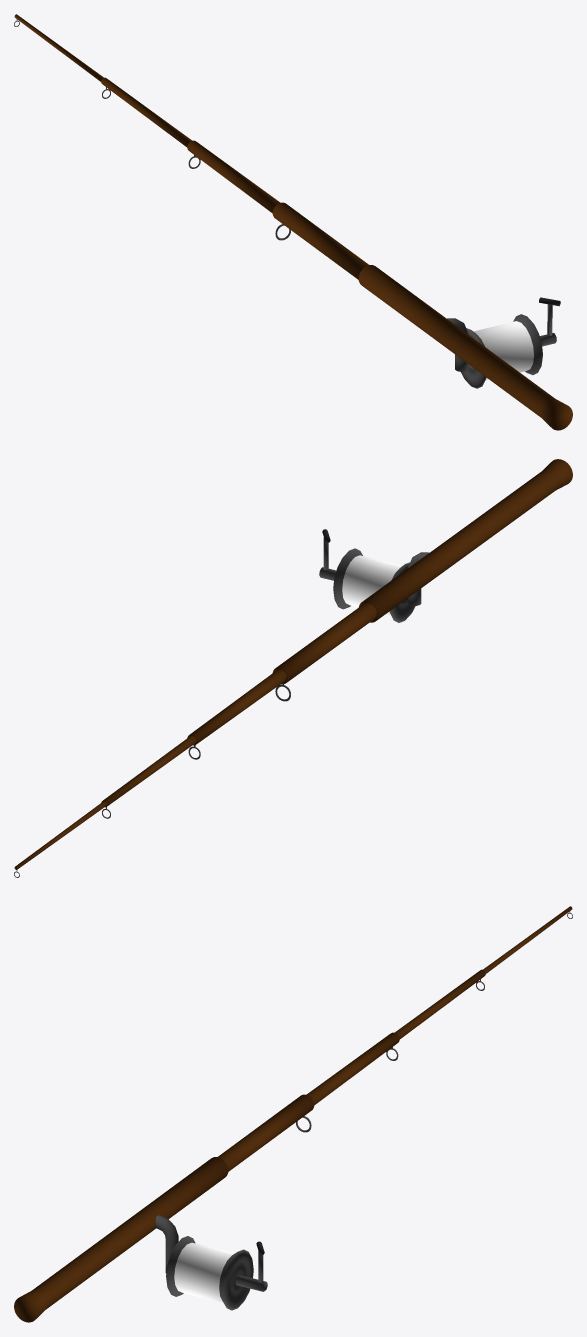
3 renders of one model, top to bottom at view 1: azimuth 30°, elevation 25°; view 2: azimuth 150°, elevation 25°; view 3: azimuth 330°, elevation 25°, orthographic.
Visible parts, largest first — view 1: imagetostl_mesh0, imagetostl_mesh1, imagetostl_mesh2; view 2: imagetostl_mesh0, imagetostl_mesh1, imagetostl_mesh2; view 3: imagetostl_mesh0, imagetostl_mesh1, imagetostl_mesh2, imagetostl_mesh3.
Part boxes in pixels (bbox=[...]): imagetostl_mesh0: bbox=[14, 14, 572, 430]; imagetostl_mesh1: bbox=[473, 321, 533, 380]; imagetostl_mesh2: bbox=[461, 314, 542, 388]; imagetostl_mesh0: bbox=[14, 459, 572, 869]; imagetostl_mesh1: bbox=[342, 555, 402, 615]; imagetostl_mesh2: bbox=[333, 548, 415, 622]; imagetostl_mesh0: bbox=[14, 906, 572, 1322]; imagetostl_mesh1: bbox=[174, 1242, 234, 1302]; imagetostl_mesh2: bbox=[166, 1236, 253, 1310]; imagetostl_mesh3: bbox=[155, 1215, 178, 1273].
Size of the model in its own units: 430 by 249 by 3089.
